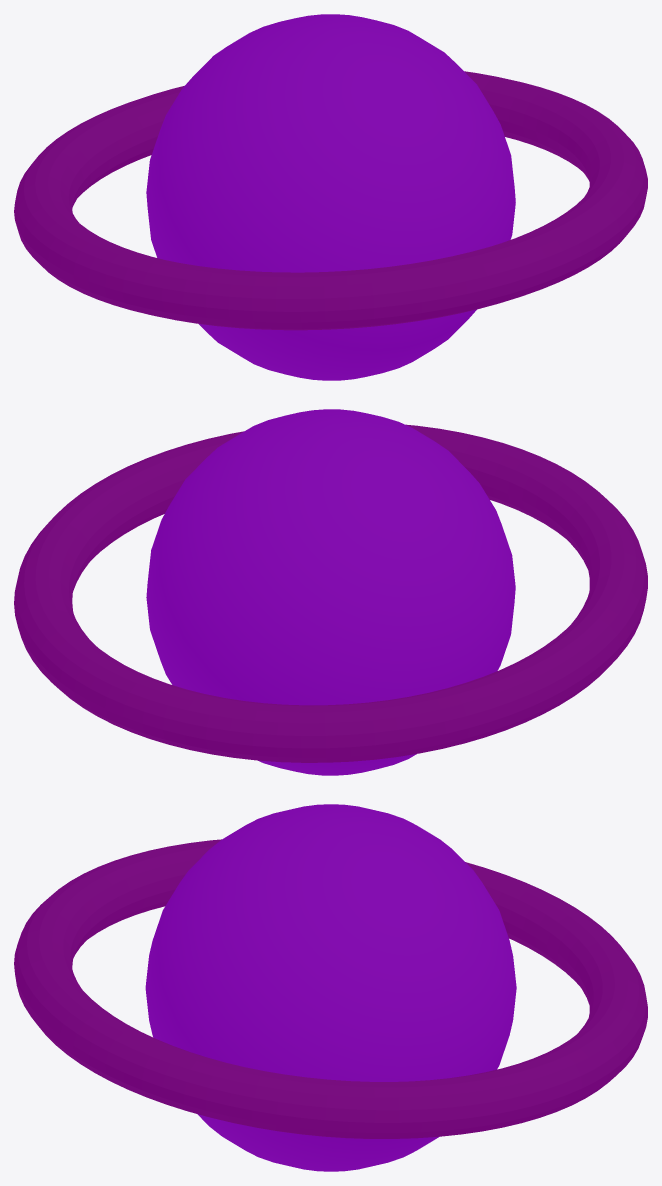
File: planet.glb
3 renders of one model, top to bottom at view 1: azimuth 30°, elevation 25°; view 2: azimuth 150°, elevation 25°; view 3: azimuth 270°, elevation 25°, orthographic.
Parts seen in each view (by area): view 1: Sphere, Torus; view 2: Sphere, Torus; view 3: Sphere, Torus.
Boxes of the visible parts, <box> form: Sphere: <box>146,14,515,380</box>; Torus: <box>14,71,647,330</box>; Sphere: <box>146,409,515,775</box>; Torus: <box>14,424,647,762</box>; Sphere: <box>145,804,516,1171</box>; Torus: <box>14,839,647,1138</box>.
Bounding box in the file's own units: 3.5 × 2.04 × 3.49.
